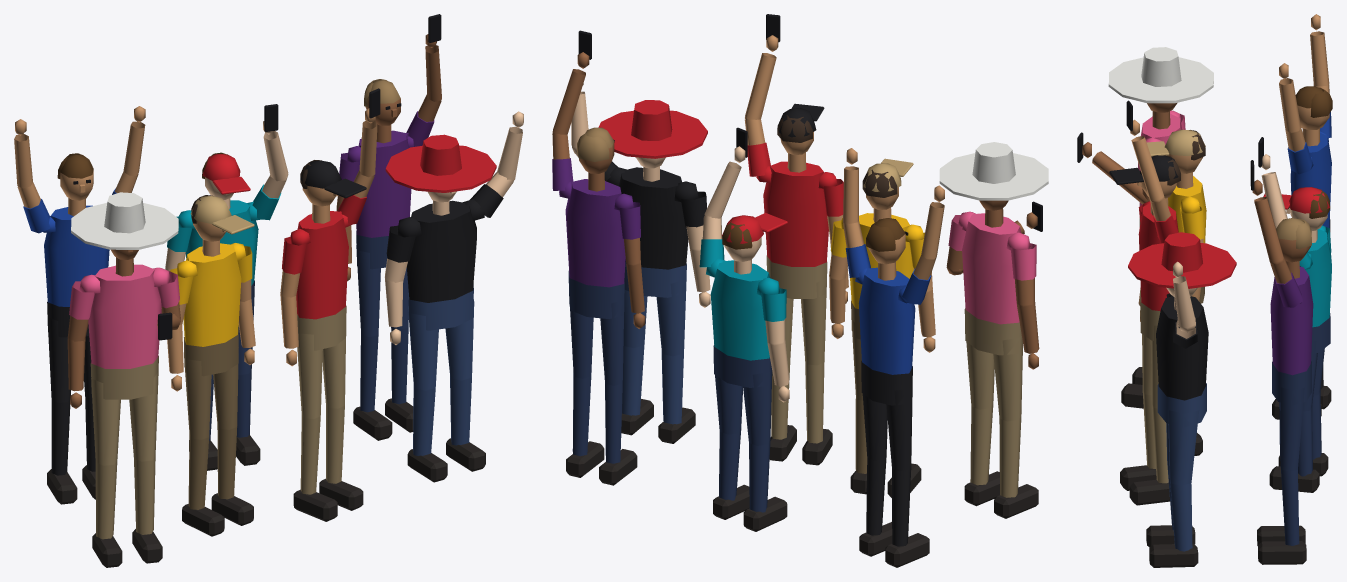
Rendered from crowd_f.dae.
3 renders of one model, left to right at view 1: azimuth 30°, elevation 25°; view 2: azimuth 150°, elevation 25°; view 3: azimuth 270°, elevation 25°, orthographic. The views are drawn at different scales.
Visible parts, largest first — view 1: marker; view 2: marker; view 3: marker.
Part boxes in pixels (bbox=[...]): marker: bbox=[14, 14, 523, 567]; marker: bbox=[552, 14, 1048, 567]; marker: bbox=[1077, 14, 1332, 567].
Size of the model in its own units: 2.56 by 1.27 by 2.23.
Materials: 1 (1 with a texture image).
